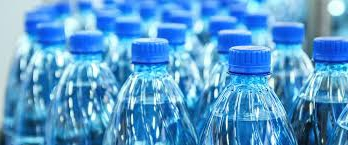plastic water bottle: (199, 42, 297, 145), (107, 36, 199, 145), (47, 30, 120, 145), (17, 24, 69, 145), (299, 35, 348, 145)
